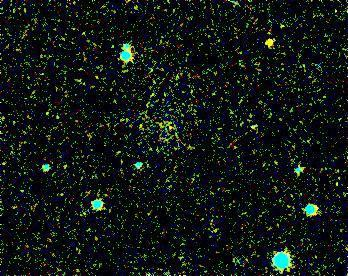star: (255, 27, 285, 57)
